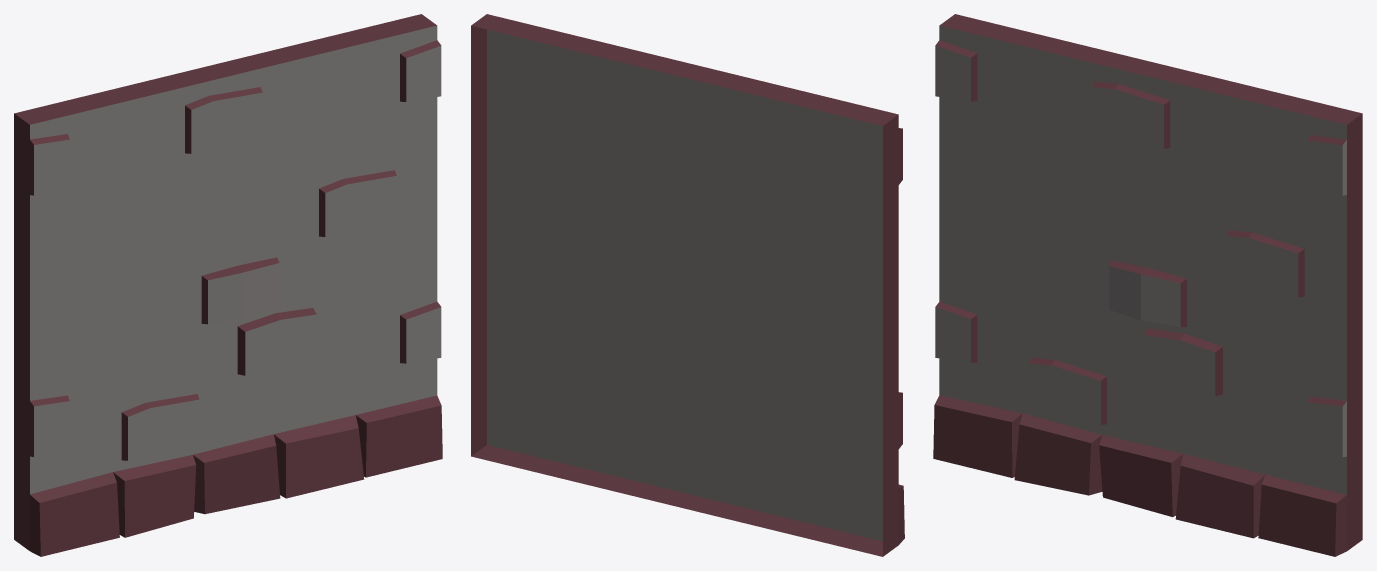
The model's file is wall-stone-3x3-b.fbx.
3 views of the same model, side by side, from view 1: azimuth 30°, elevation 25°; view 2: azimuth 150°, elevation 25°; view 3: azimuth 330°, elevation 25° (orthographic).
Visible parts, largest first — view 1: wall-stone-3x3-b; view 2: wall-stone-3x3-b; view 3: wall-stone-3x3-b.
Boxes of the visible parts, bbox=[...] form: wall-stone-3x3-b: bbox=[14, 14, 442, 556]; wall-stone-3x3-b: bbox=[471, 14, 904, 556]; wall-stone-3x3-b: bbox=[933, 14, 1362, 556].
Size of the model in its own units: 3 by 3 by 0.3284.
